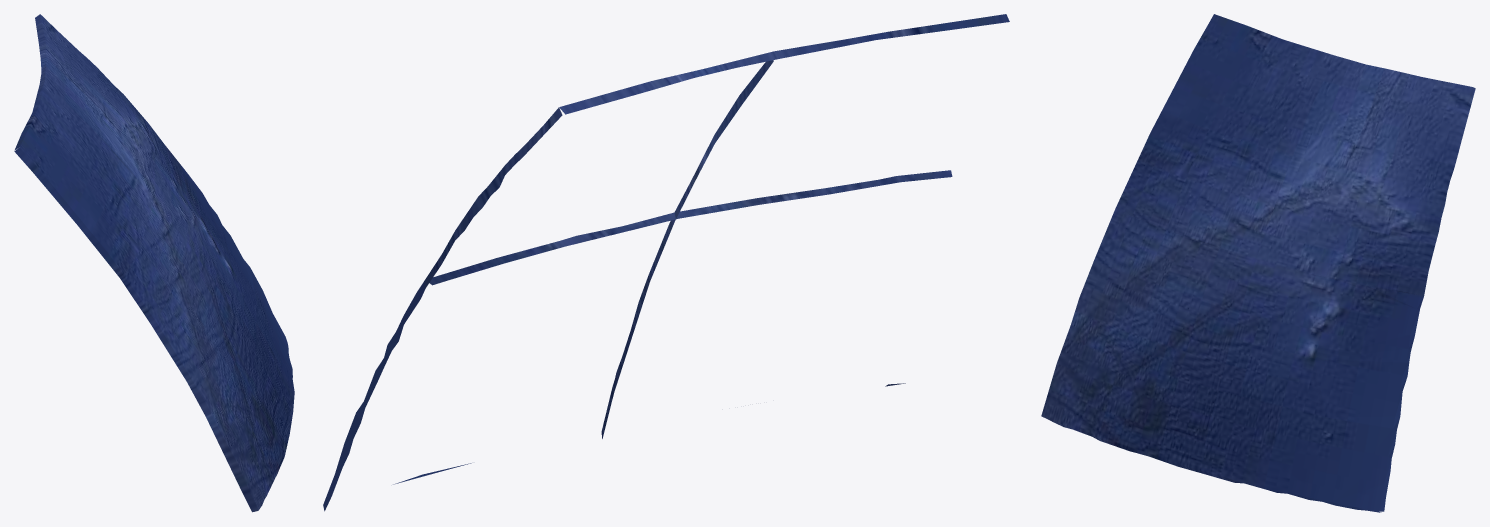
3 renders of one model, left to right at view 1: azimuth 30°, elevation 25°; view 2: azimuth 150°, elevation 25°; view 3: azimuth 270°, elevation 25°, orthographic. The views are drawn at different scales.
Size of the model in its own units: 2288966 by 2102814 by 2471593.
1 material, 1 textured.
